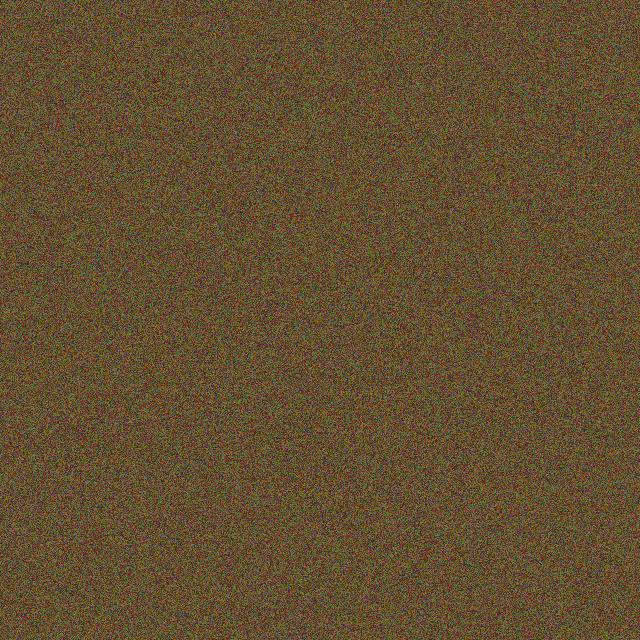unknown_man_made_object: (402, 382, 509, 489)
